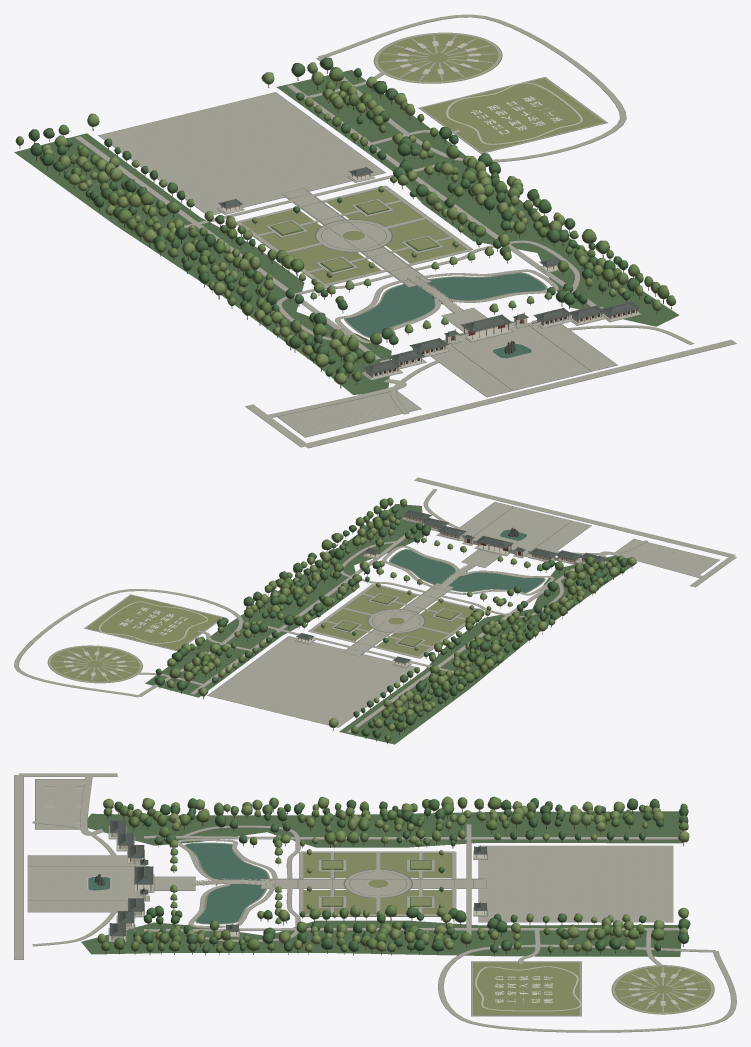
The model's file is guanque-surroundings.glb.
3 renders of one model, top to bottom at view 1: azimuth 30°, elevation 25°; view 2: azimuth 150°, elevation 25°; view 3: azimuth 270°, elevation 25°, orthographic. The views are drawn at different scales.
Visible parts, largest first — view 1: 环楼广场与登楼轴线 / 灰石铺装, 两侧绿地与曲折园路 / 林下绿地, 两侧绿地与曲折园路 / 灰石铺装, 卫星图左侧 · 大地诗景 / 开敞草坪, 林带与沿岸树群 / 阔叶深绿, 林带与沿岸树群 / 阔叶中绿, 林带与沿岸树群 / 阔叶浅绿, 两侧绿地与曲折园路 / 开敞草坪, 前广场与假山水景 / 灰石铺装, 园内景观湖与中轴桥 / 园内景观水面, 两侧绿地与曲折园路 / 铺装边线, 入口配套与停车区 / 灰石铺装 (+11 smaller); view 2: 环楼广场与登楼轴线 / 灰石铺装, 两侧绿地与曲折园路 / 林下绿地, 两侧绿地与曲折园路 / 灰石铺装, 卫星图左侧 · 大地诗景 / 开敞草坪, 林带与沿岸树群 / 阔叶深绿, 林带与沿岸树群 / 阔叶浅绿, 林带与沿岸树群 / 阔叶中绿, 两侧绿地与曲折园路 / 开敞草坪, 前广场与假山水景 / 灰石铺装, 园内景观湖与中轴桥 / 园内景观水面, 两侧绿地与曲折园路 / 铺装边线, 入口配套与停车区 / 灰石铺装 (+10 smaller); view 3: 两侧绿地与曲折园路 / 林下绿地, 环楼广场与登楼轴线 / 灰石铺装, 两侧绿地与曲折园路 / 灰石铺装, 卫星图左侧 · 大地诗景 / 开敞草坪, 林带与沿岸树群 / 阔叶深绿, 林带与沿岸树群 / 阔叶中绿, 林带与沿岸树群 / 阔叶浅绿, 前广场与假山水景 / 灰石铺装, 两侧绿地与曲折园路 / 开敞草坪, 园内景观湖与中轴桥 / 园内景观水面, 两侧绿地与曲折园路 / 铺装边线, 入口配套与停车区 / 灰石铺装 (+11 smaller).
Boxes of the visible parts, x1,y1,x2,y2 form: 环楼广场与登楼轴线 / 灰石铺装: (99,92,430,286); 两侧绿地与曲折园路 / 林下绿地: (14,70,679,394); 两侧绿地与曲折园路 / 灰石铺装: (75,14,736,447); 卫星图左侧 · 大地诗景 / 开敞草坪: (373,32,604,152); 林带与沿岸树群 / 阔叶深绿: (28,57,652,376); 林带与沿岸树群 / 阔叶中绿: (15,67,675,381); 林带与沿岸树群 / 阔叶浅绿: (41,62,661,384); 两侧绿地与曲折园路 / 开敞草坪: (236,185,472,283); 前广场与假山水景 / 灰石铺装: (431,322,616,396); 园内景观湖与中轴桥 / 园内景观水面: (346,273,545,337); 两侧绿地与曲折园路 / 铺装边线: (75,17,736,448); 入口配套与停车区 / 灰石铺装: (278,391,420,436); 环楼广场与登楼轴线 / 灰石铺装: (208,583,453,727); 两侧绿地与曲折园路 / 林下绿地: (145,504,637,744); 两侧绿地与曲折园路 / 灰石铺装: (14,477,736,732); 卫星图左侧 · 大地诗景 / 开敞草坪: (47,595,221,683); 林带与沿岸树群 / 阔叶深绿: (154,507,627,738); 林带与沿岸树群 / 阔叶浅绿: (166,498,636,731); 林带与沿岸树群 / 阔叶中绿: (169,497,624,741); 两侧绿地与曲折园路 / 开敞草坪: (308,584,484,658); 前广场与假山水景 / 灰石铺装: (460,502,590,556); 园内景观湖与中轴桥 / 园内景观水面: (390,549,544,592); 两侧绿地与曲折园路 / 铺装边线: (14,480,736,732); 入口配套与停车区 / 灰石铺装: (616,539,719,574); 两侧绿地与曲折园路 / 林下绿地: (81,811,682,956); 环楼广场与登楼轴线 / 灰石铺装: (261,845,672,921); 两侧绿地与曲折园路 / 灰石铺装: (14,773,736,1032); 卫星图左侧 · 大地诗景 / 开敞草坪: (473,962,714,1015); 林带与沿岸树群 / 阔叶深绿: (114,798,690,953); 林带与沿岸树群 / 阔叶中绿: (101,796,688,952); 林带与沿岸树群 / 阔叶浅绿: (97,796,689,952); 前广场与假山水景 / 灰石铺装: (28,855,141,911); 两侧绿地与曲折园路 / 开敞草坪: (301,851,451,916); 园内景观湖与中轴桥 / 园内景观水面: (186,843,267,923); 两侧绿地与曲折园路 / 铺装边线: (14,775,736,1032); 入口配套与停车区 / 灰石铺装: (35,779,84,829).
Bounding box in the file's own units: 535 × 15.68 × 630.
Materials: 21 (4 with a texture image).
